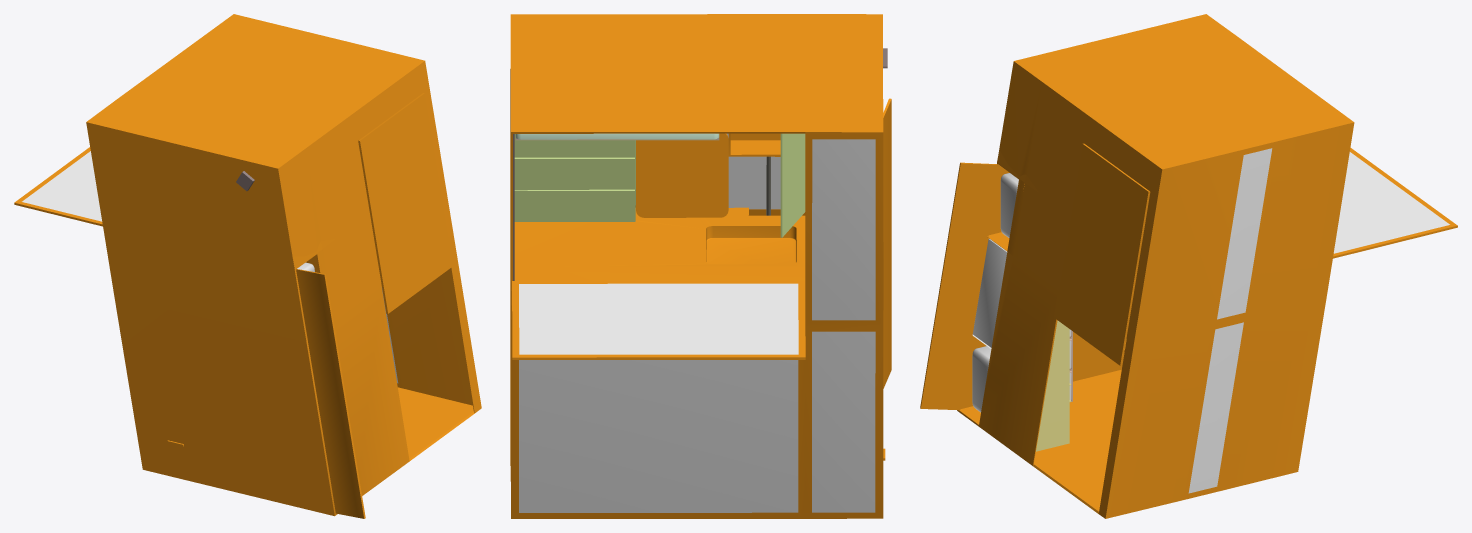
File: Example-Dwelling-1.glb
3 views of the same model, side by side, from view 1: azimuth 30°, elevation 25°; view 2: azimuth 150°, elevation 25°; view 3: azimuth 270°, elevation 25° (orthographic). The views are drawn at different scales.
Visible parts, largest first — view 1: Example-Dwelling; view 2: Example-Dwelling, Bookcase, Mirror, Home-Washroom-Stall, Bed; view 3: Example-Dwelling, Kitchen-Cabinet, Iceboc-Heatsink, Water-Tank-Cuboid.002, Water-Tank-Cuboid.001.
Part boxes in pixels (x1,y1,x2,y2): Example-Dwelling: [14, 14, 481, 518]; Example-Dwelling: [510, 14, 891, 518]; Bookcase: [514, 134, 635, 221]; Mirror: [727, 133, 780, 209]; Home-Washroom-Stall: [780, 133, 805, 237]; Bed: [515, 133, 719, 140]; Example-Dwelling: [920, 14, 1457, 518]; Kitchen-Cabinet: [1036, 320, 1071, 451]; Iceboc-Heatsink: [973, 238, 1007, 347]; Water-Tank-Cuboid.002: [972, 346, 991, 412]; Water-Tank-Cuboid.001: [1000, 173, 1018, 237].
Size of what is drawn, in the model's own units: 5.52 by 5.03 by 7.29.
